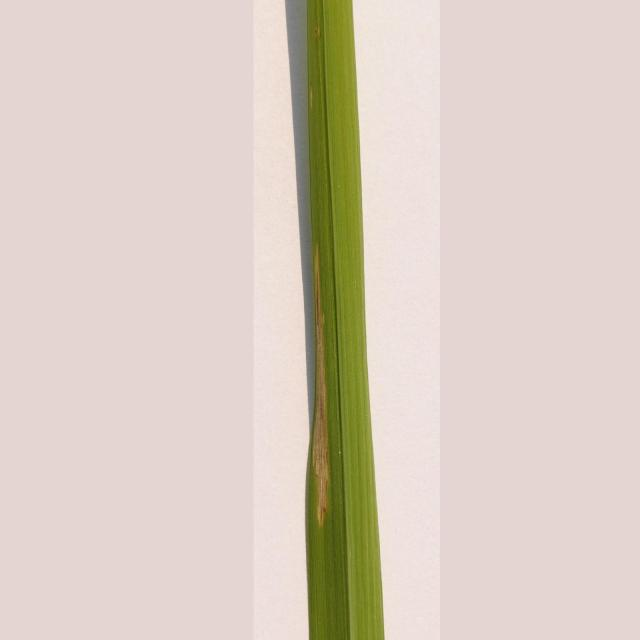Bacterial leaf blight: (302, 245, 346, 532)
